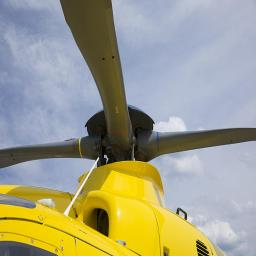helicopter: (1, 2, 254, 256)
